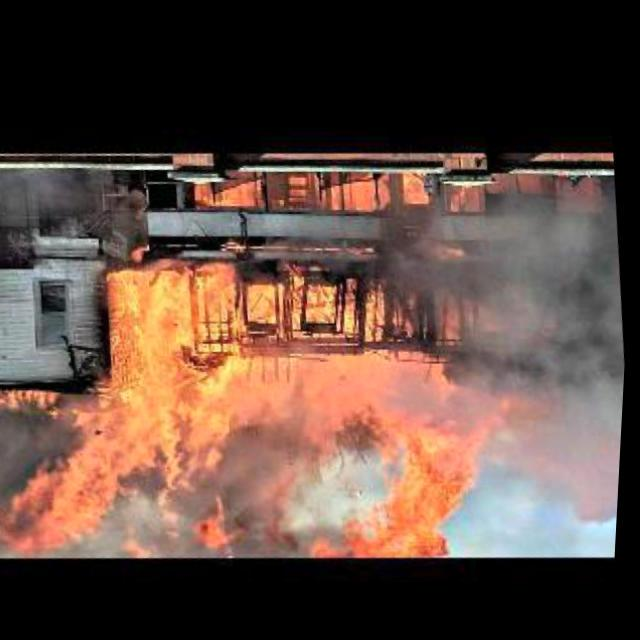fire: (0, 210, 512, 597), (407, 154, 636, 528)
